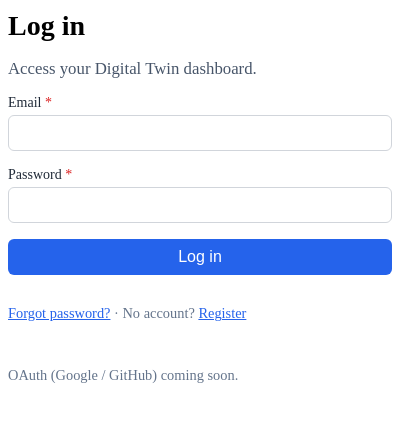
Scenario: LoginPage › shows validation errors for empty submit
Click the button "Log in" at (200, 257), box [8, 239, 392, 275]
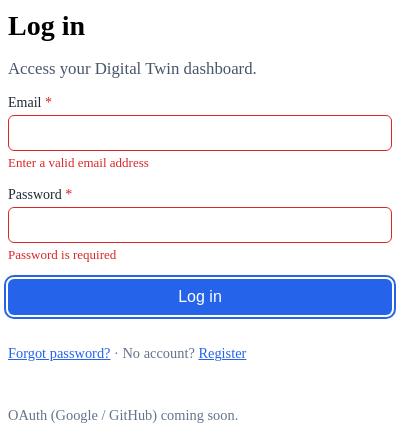
Check: the text "Enter a valid email address" is shown, box [8, 155, 149, 170]
Check: the text "Password is required" is shown, box [8, 247, 116, 262]
